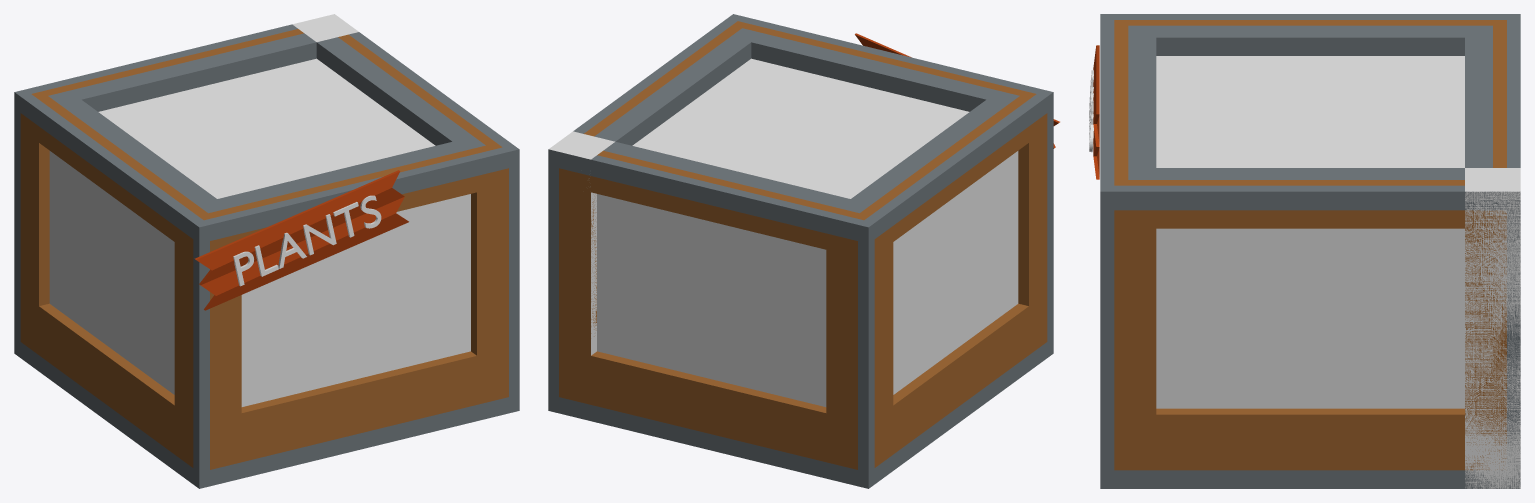
Rendered from aeroponic_1_plants.fbx.
3 views of the same model, side by side, from view 1: azimuth 30°, elevation 25°; view 2: azimuth 150°, elevation 25°; view 3: azimuth 270°, elevation 25° (orthographic). The views are drawn at different scales.
Visible parts, largest first — view 1: Frame, Pillar; view 2: Frame, Pillar; view 3: Frame, Pillar.
Boxes of the visible parts, x1=… form: Frame: x1=14, y1=24, x2=519, y2=488; Pillar: x1=292, y1=14, x2=358, y2=41; Frame: x1=548, y1=14, x2=1059, y2=488; Pillar: x1=549, y1=131, x2=614, y2=355; Frame: x1=1089, y1=14, x2=1520, y2=488; Pillar: x1=1465, y1=168, x2=1520, y2=488.
Bounding box in the file's own units: 234 × 186 × 237.
